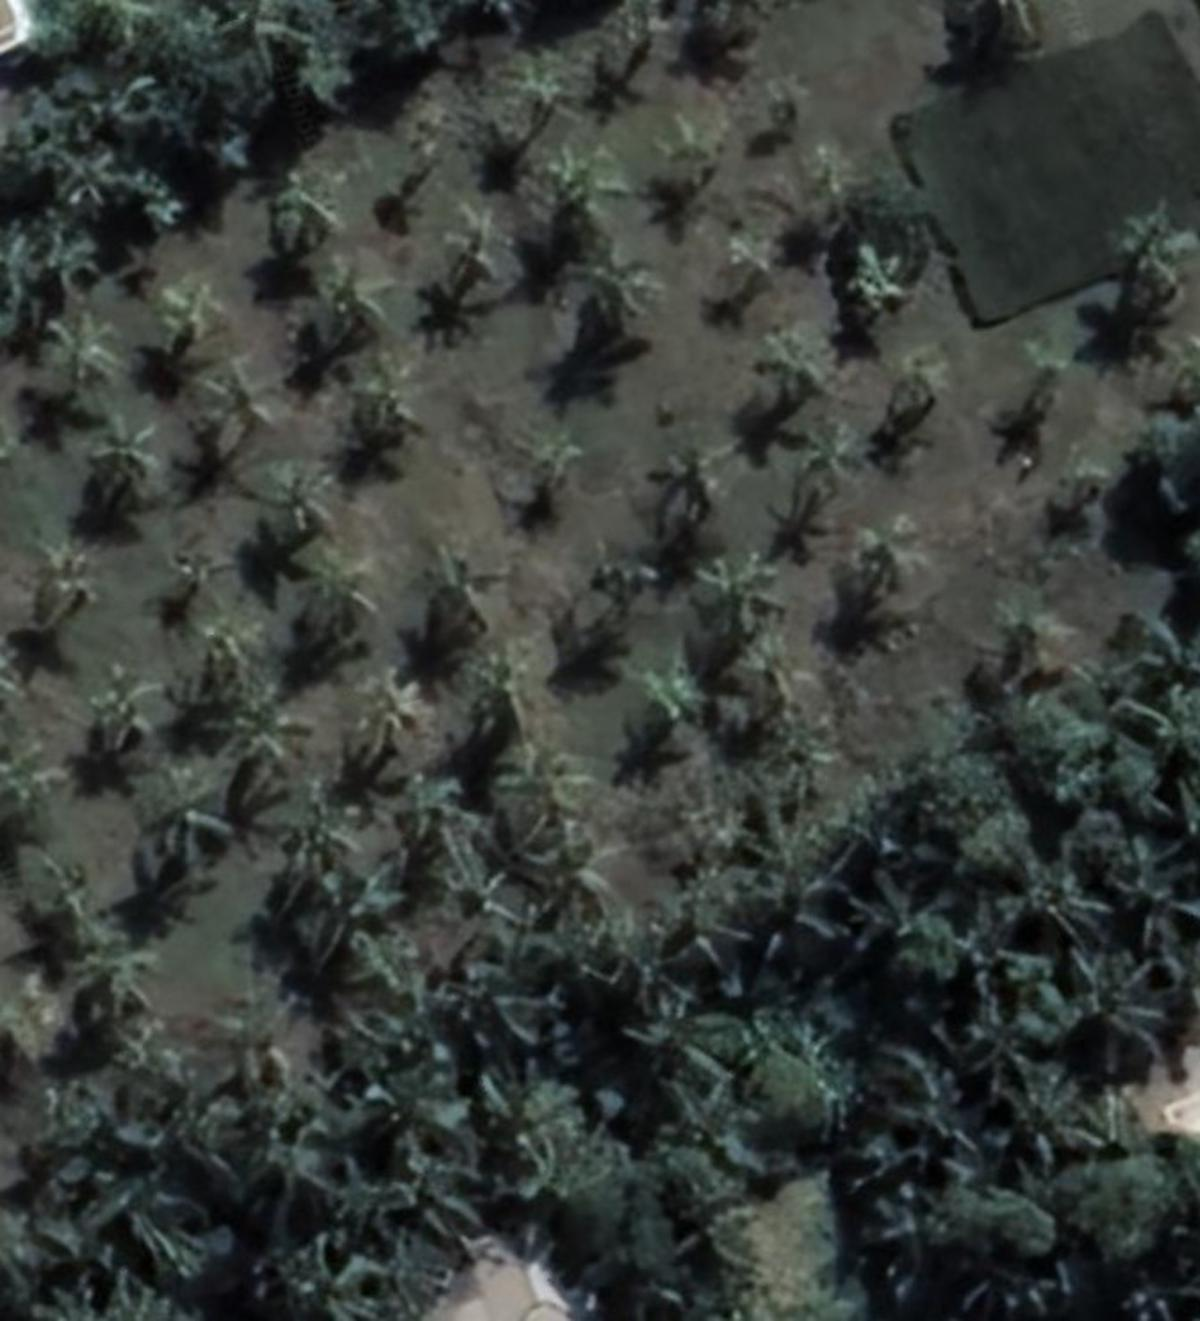coconut: (533, 139, 653, 251), (788, 413, 895, 520), (139, 766, 246, 864), (685, 552, 784, 657), (344, 361, 445, 461), (78, 406, 176, 507), (747, 326, 859, 413), (625, 666, 725, 764), (41, 320, 144, 415), (219, 693, 318, 787), (188, 358, 288, 451), (523, 820, 627, 910), (413, 549, 515, 636), (433, 208, 533, 297), (308, 262, 408, 351), (639, 422, 737, 509), (74, 652, 165, 746), (267, 461, 360, 550), (579, 251, 677, 335), (509, 433, 595, 527), (196, 620, 292, 702), (704, 215, 788, 308), (643, 119, 737, 201), (304, 557, 388, 646), (24, 541, 105, 632), (364, 670, 443, 761), (253, 174, 338, 258), (848, 242, 927, 331), (843, 516, 925, 602), (581, 539, 668, 616), (142, 278, 228, 356), (896, 344, 978, 422)
